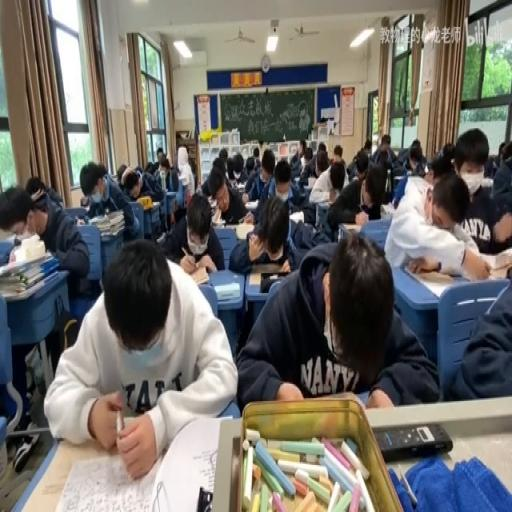calculator: (54, 450, 161, 509), (400, 260, 452, 292), (480, 248, 511, 270), (181, 263, 208, 286), (406, 174, 430, 196), (213, 282, 241, 300), (98, 220, 124, 234), (308, 189, 330, 205), (137, 195, 161, 209), (234, 222, 252, 240), (338, 220, 361, 232), (248, 270, 264, 286), (210, 205, 224, 223), (289, 209, 304, 225), (390, 172, 404, 189), (379, 200, 395, 214), (0, 232, 18, 244), (240, 212, 253, 225), (88, 214, 104, 224), (480, 176, 493, 188), (243, 199, 258, 209), (208, 196, 218, 209), (306, 175, 316, 188), (234, 180, 246, 190), (155, 232, 165, 243), (74, 216, 86, 225), (292, 176, 302, 185), (405, 168, 415, 176), (110, 174, 118, 184)
paper: (48, 237, 238, 478), (235, 235, 432, 411), (0, 178, 90, 288), (444, 263, 510, 401), (442, 128, 512, 253), (230, 190, 320, 274), (79, 160, 144, 242), (324, 162, 381, 238), (196, 158, 250, 225), (266, 154, 304, 210), (400, 136, 427, 175), (176, 146, 194, 204), (154, 155, 178, 189), (297, 145, 318, 182), (24, 175, 46, 202), (230, 150, 244, 180), (354, 150, 368, 180), (261, 148, 275, 176), (483, 155, 496, 178), (441, 142, 454, 164), (115, 163, 128, 185), (314, 158, 326, 176), (332, 145, 343, 161), (245, 155, 254, 174), (218, 148, 228, 165), (363, 136, 372, 154), (498, 141, 506, 159), (79, 194, 89, 208), (381, 132, 390, 145), (156, 145, 163, 161), (142, 160, 153, 170), (318, 142, 326, 155), (252, 145, 259, 158), (298, 144, 305, 156)
person: (373, 422, 452, 461), (260, 270, 290, 293), (196, 486, 213, 510)
